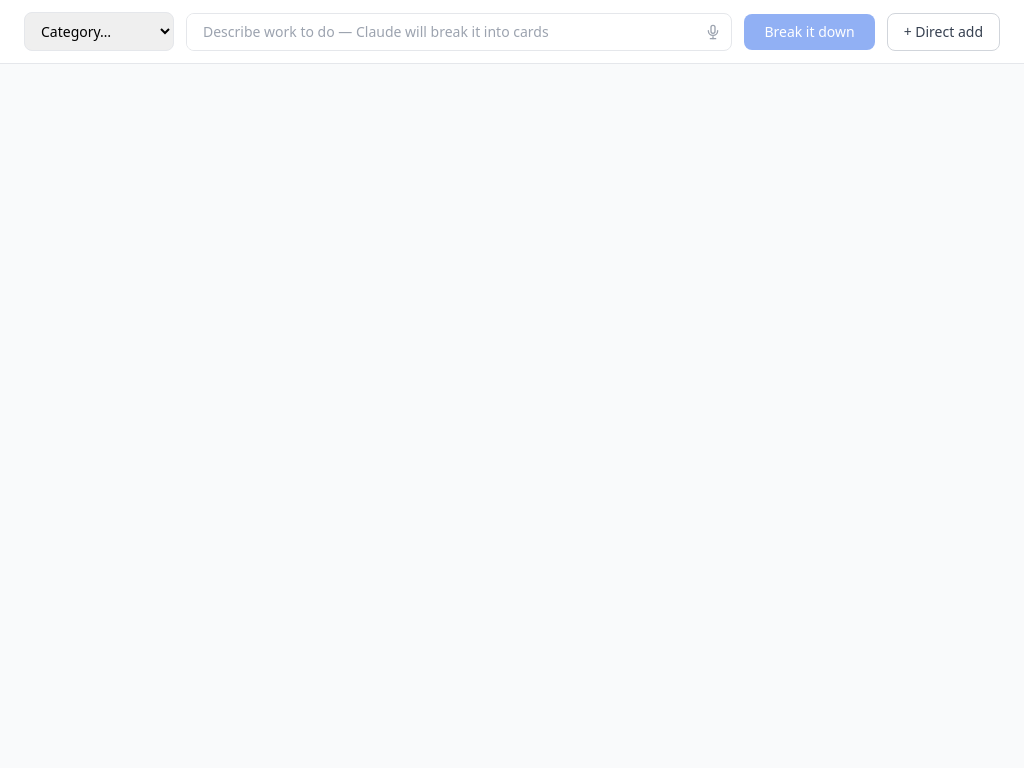
Test: PromptBar › clicking Direct add opens the QuickAddCard modal
Click the button "+ Direct add".
click(943, 32)  # box [887,12,1000,50]
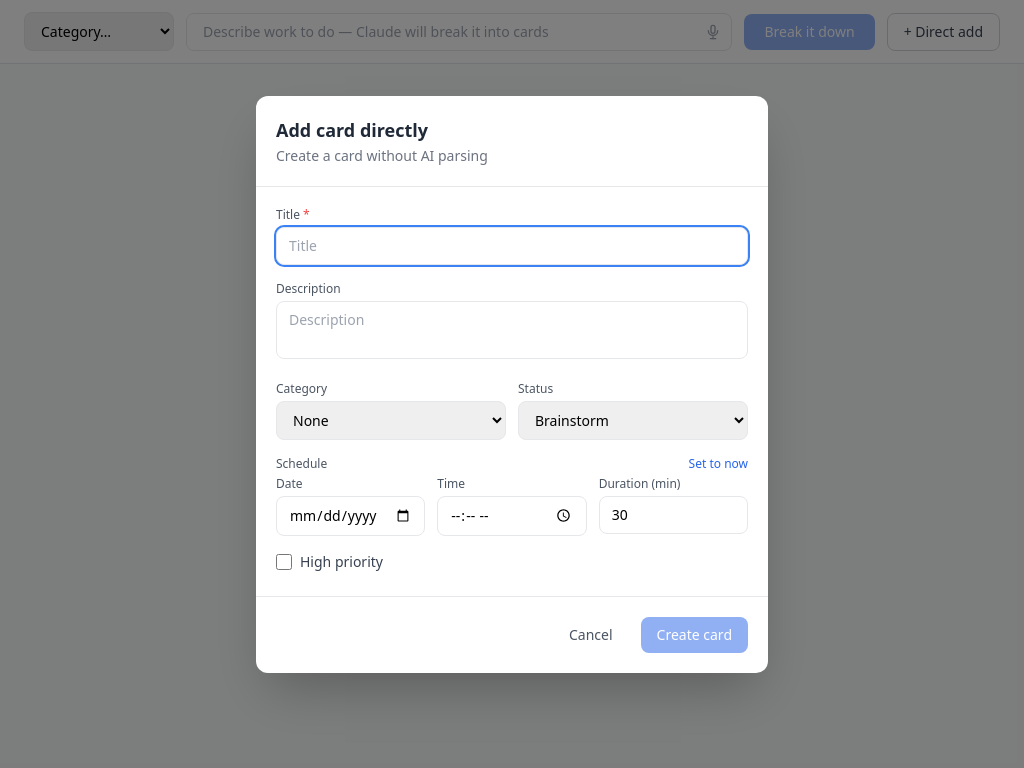
Check: the heading "Add card directly" is shown, box [276,118,428,142]
